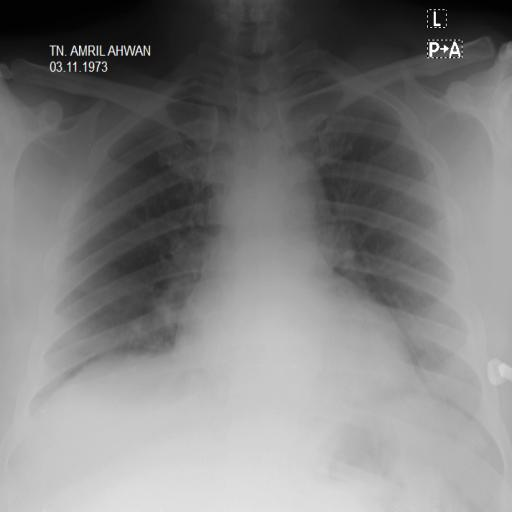normal: (7, 42, 500, 456)
